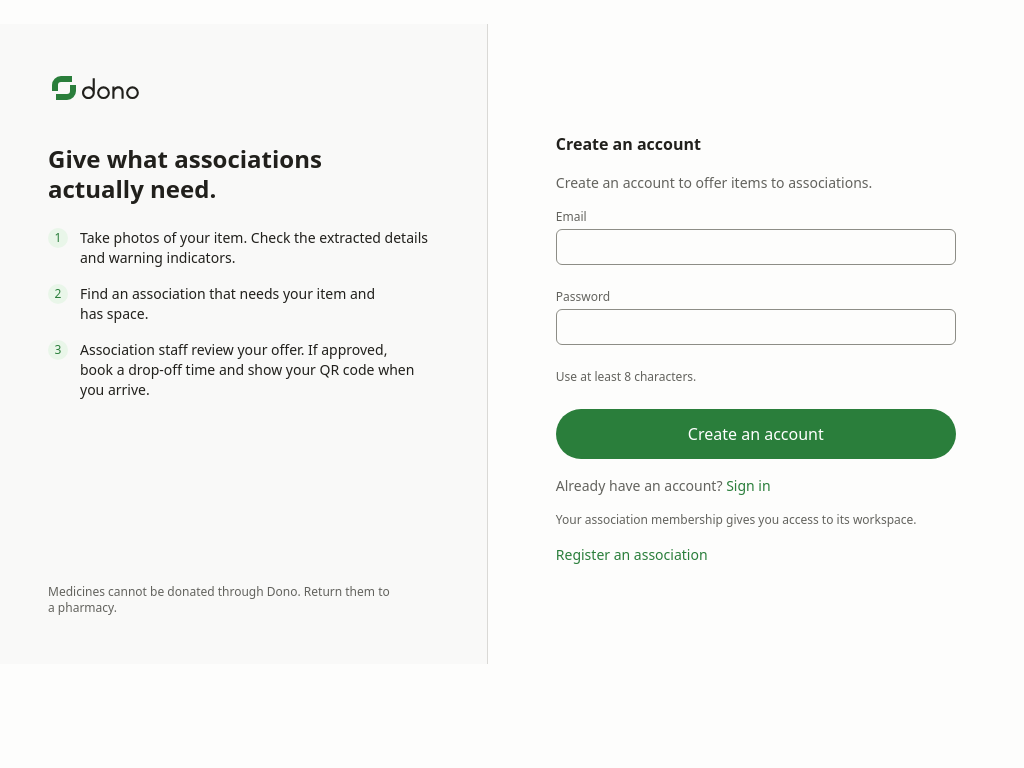
Test: shows email confirmation after signup without exposing account links
Expected: the password field labelled "Password" is shown, [556,308,956,344]
Step 1. Type "donor@test.invalid" into the field labelled "Email" → (756, 246), box [556,228,956,264]
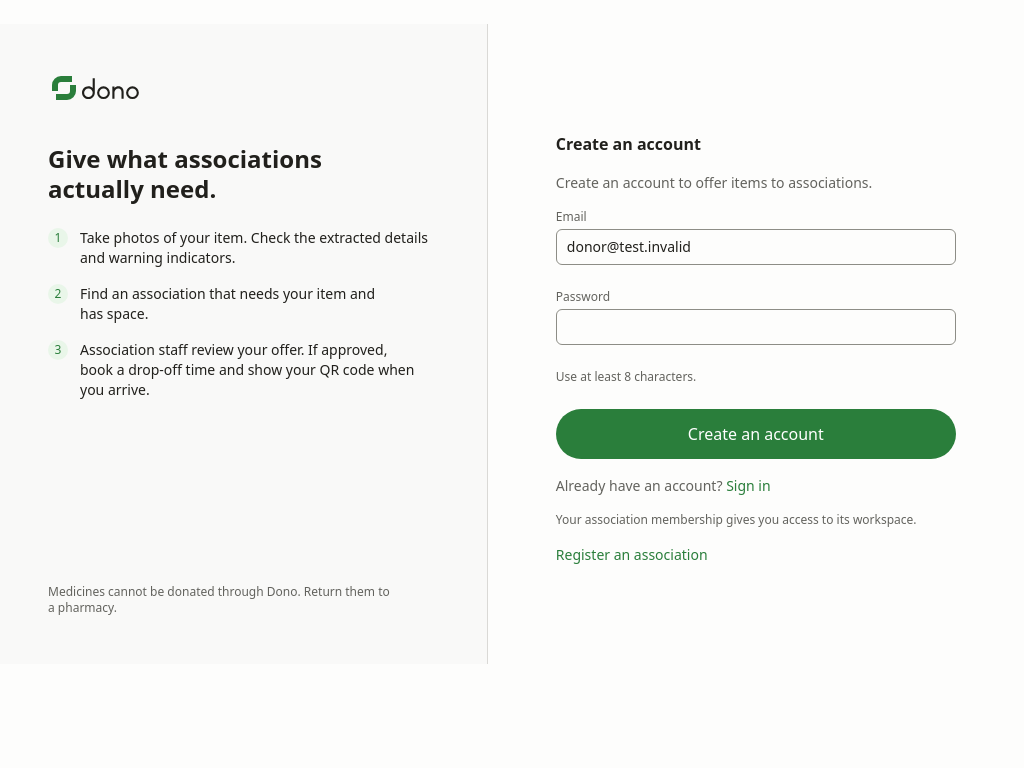
Step 2. Type " secret password " into the password field labelled "Password" → (756, 326), box [556,308,956,344]
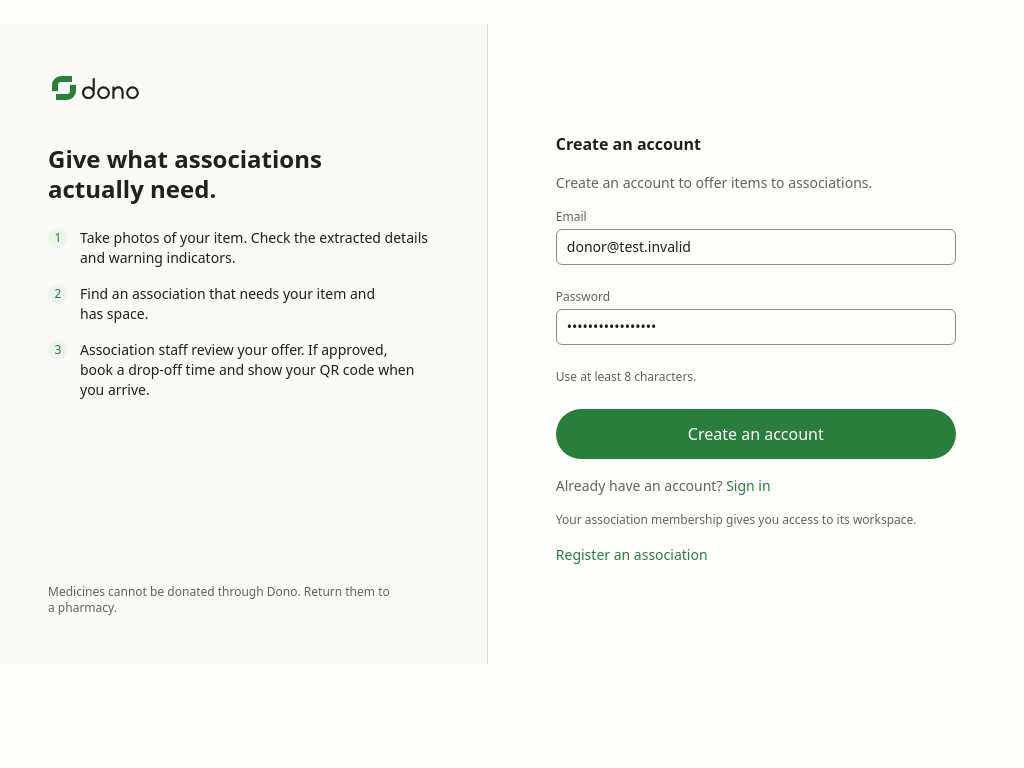
Step 3. Submit the form, box [556,208,956,458]
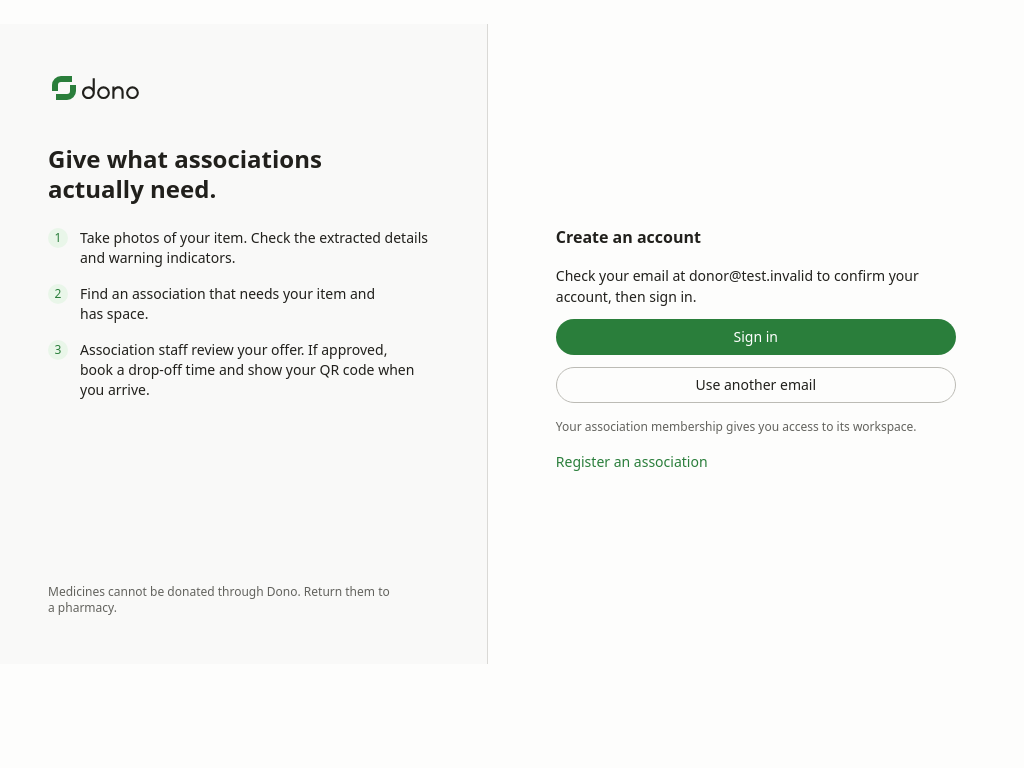
Expected: the message "Check your email at donor@test.invalid to confirm your account, then sign in." is shown, [556,264,956,306]
Expected: the password field is gone
Expected: the link to "/login" is shown, [556,318,956,354]
